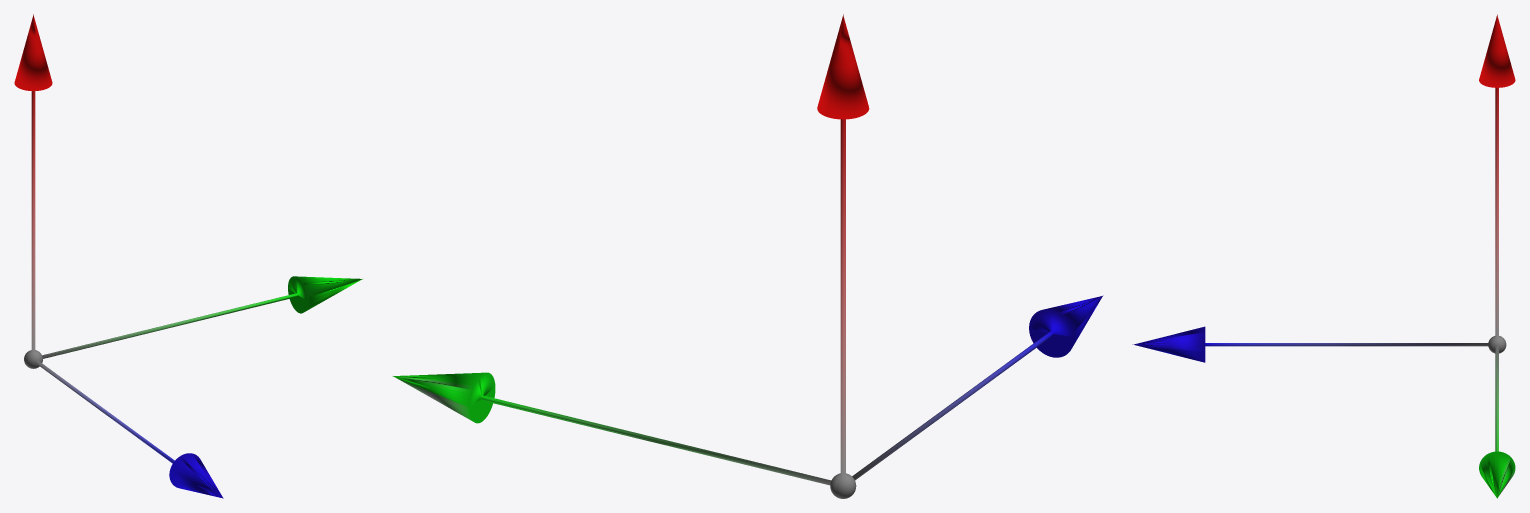
File: Axis.obj
3 views of the same model, side by side, from view 1: azimuth 30°, elevation 25°; view 2: azimuth 150°, elevation 25°; view 3: azimuth 270°, elevation 25° (orthographic). The views are drawn at different scales.
Bounding box in the file's own units: 1050 × 1050 × 1050.
